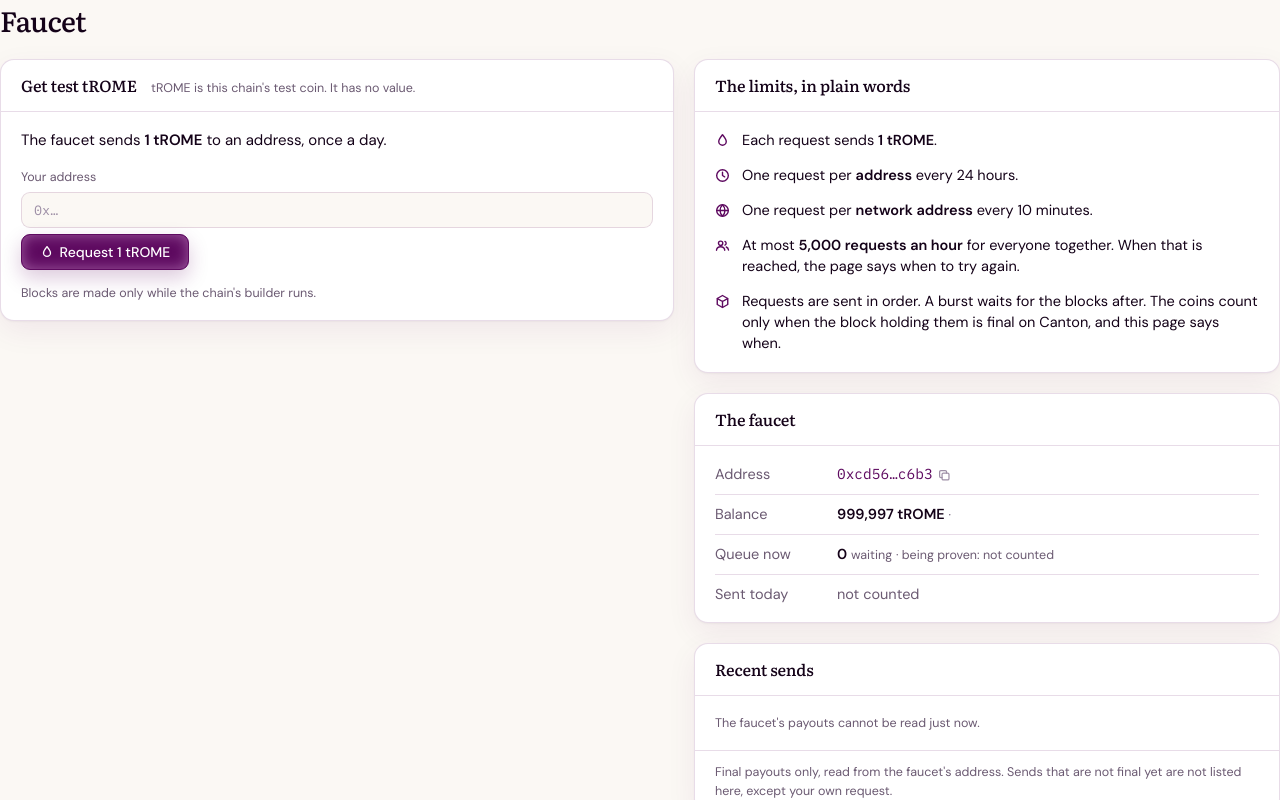
Test: a request that is taken › never says final while the explorer says sent, however long it is asked
Step 1. Type "0x5a04de5c5ebd085f5e3b3ec791ab5cdc8e2b56f0" into the field labelled "Your address" → (337, 210), box [21,192,653,228]
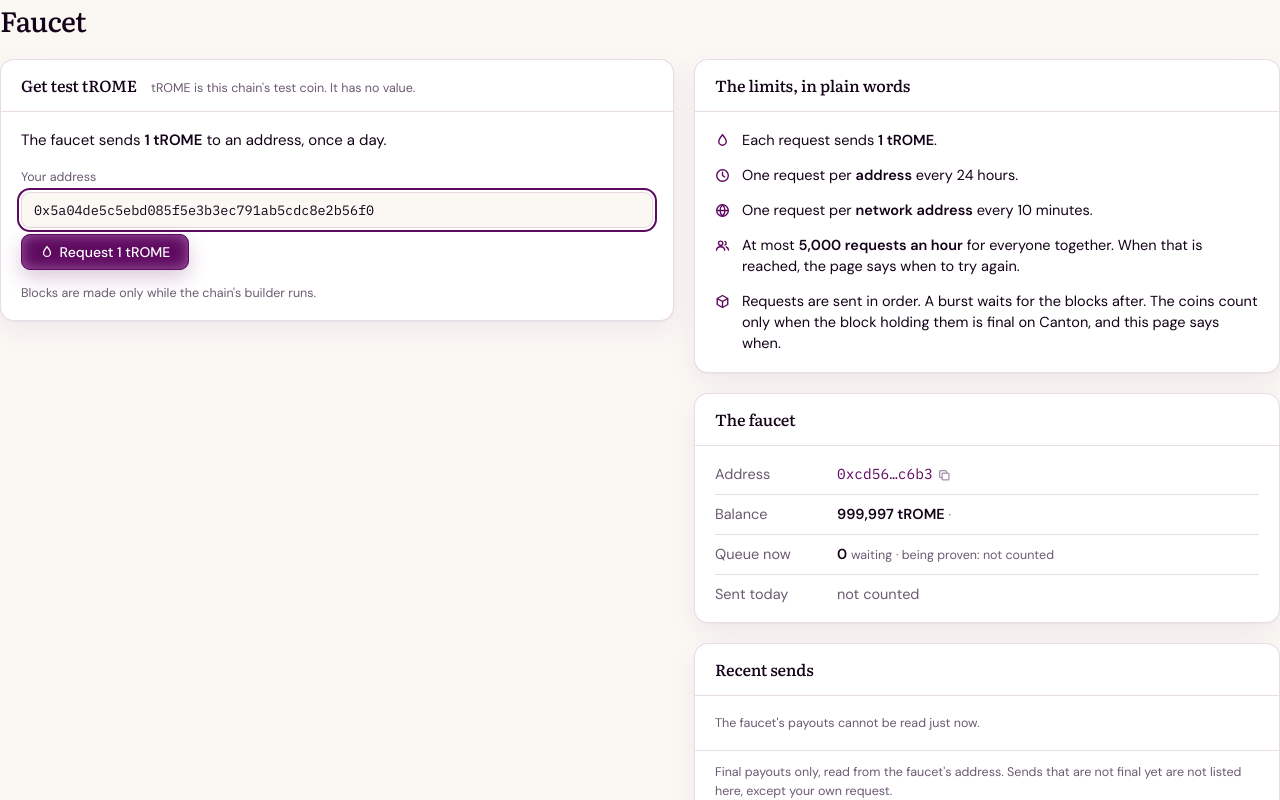
Step 2. Click the button "Request 1 tROME" → click(105, 252), box [21,234,189,270]
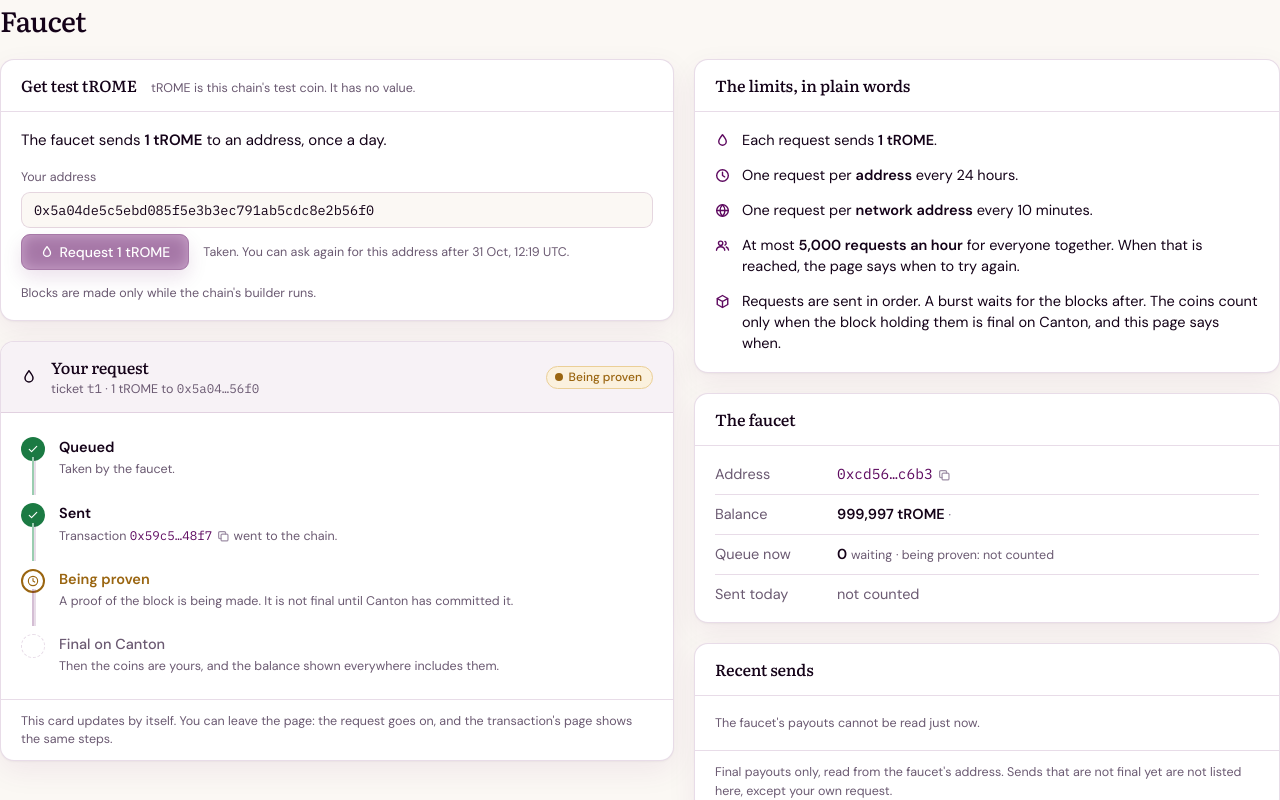
Now the message shows "It is not final until Canton has committed it.", box [59,593,513,609]
